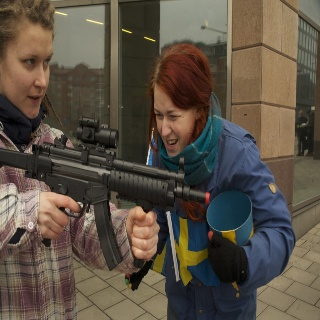rifle: (1, 114, 212, 270)
